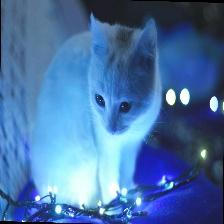kedo: (35, 15, 160, 213)
